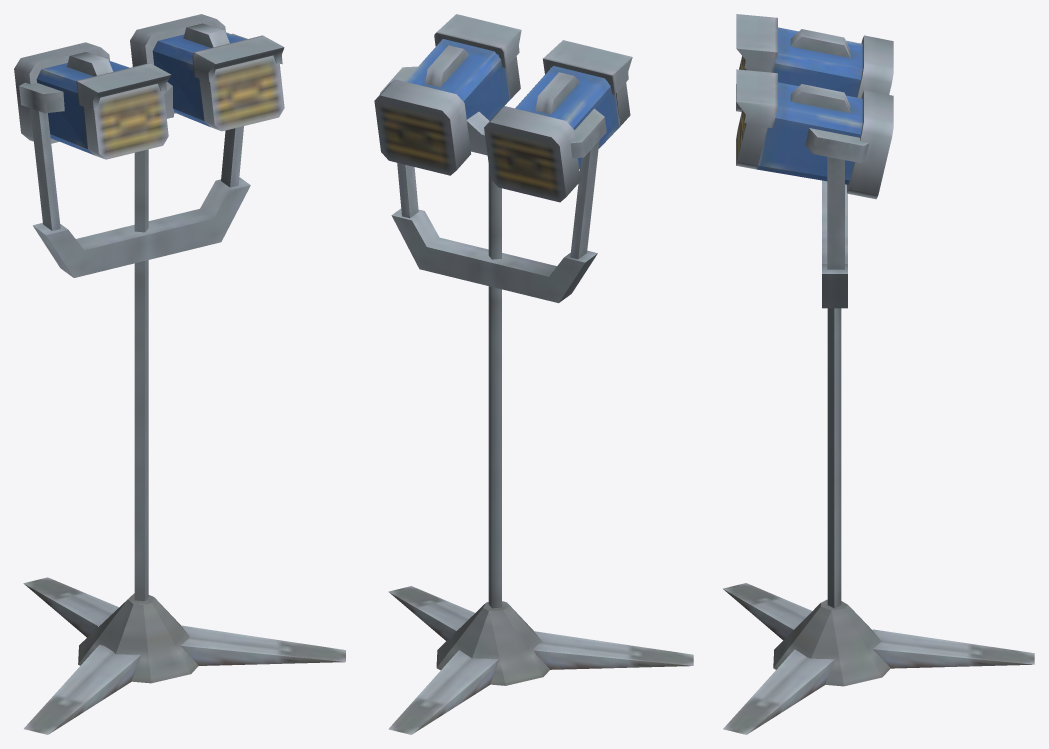
The model's file is Demo_dadeng.FBX.
3 renders of one model, left to right at view 1: azimuth 30°, elevation 25°; view 2: azimuth 150°, elevation 25°; view 3: azimuth 270°, elevation 25°, orthographic. The views are drawn at different scales.
Parts seen in each view (by area): view 1: Demo_dadeng; view 2: Demo_dadeng; view 3: Demo_dadeng.
Part boxes in pixels (x1,y1,x2,y2): Demo_dadeng: [14, 14, 345, 734]; Demo_dadeng: [374, 14, 693, 734]; Demo_dadeng: [723, 14, 1034, 734].
Size of the model in its own units: 0.8017 by 1.48 by 0.6952.
